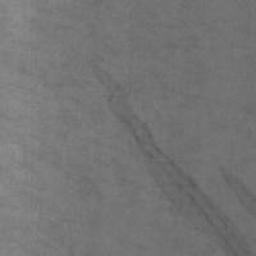Water spot: (87, 64, 256, 256), (218, 164, 256, 216)
